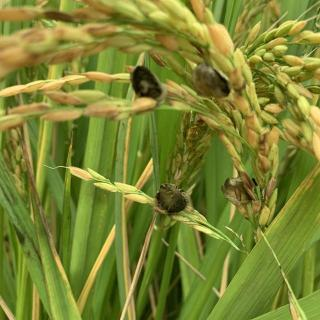Gosong-Palsu: (190, 62, 232, 99), (130, 64, 164, 100), (221, 176, 257, 207), (155, 183, 189, 215)
